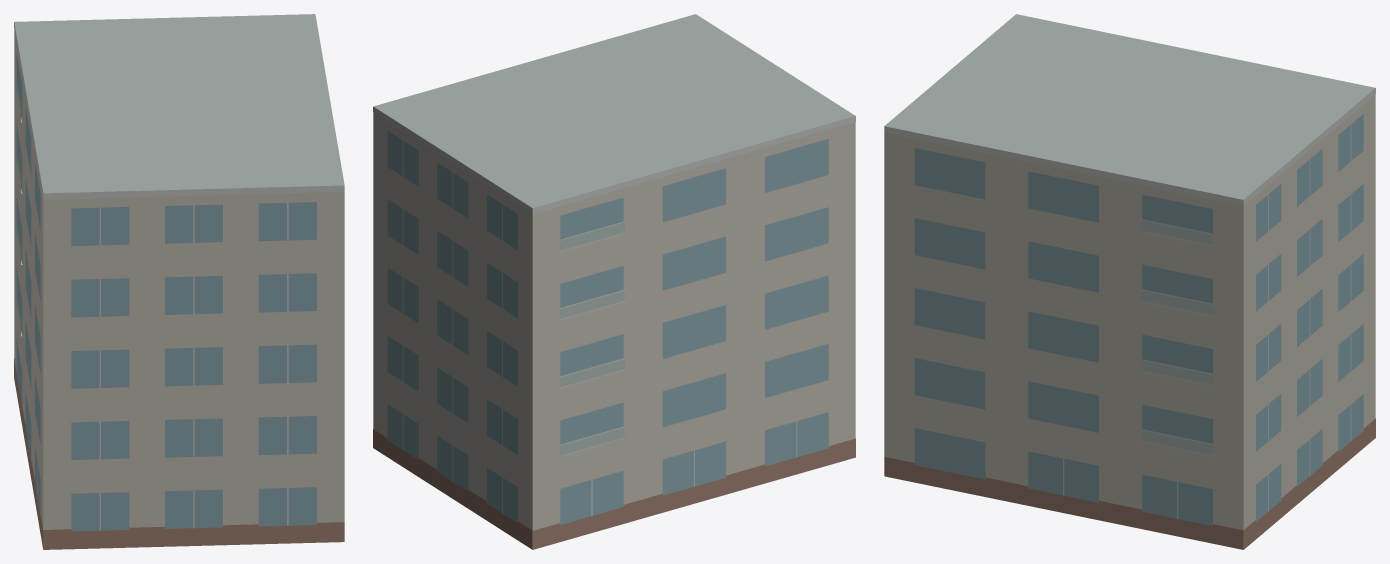
The model's file is survey-upis-32884353.glb.
3 renders of one model, left to right at view 1: azimuth 30°, elevation 25°; view 2: azimuth 150°, elevation 25°; view 3: azimuth 270°, elevation 25°, orthographic. The views are drawn at different scales.
Visible parts, largest first — view 1: survey-upis-32884353.tmp; view 2: survey-upis-32884353.tmp; view 3: survey-upis-32884353.tmp.
Boxes of the visible parts, x1,y1,x2,y2 form: survey-upis-32884353.tmp: [14, 14, 344, 549]; survey-upis-32884353.tmp: [373, 14, 855, 549]; survey-upis-32884353.tmp: [884, 14, 1375, 549].
Bounding box in the file's own units: 15.72 × 13.8 × 17.57.
